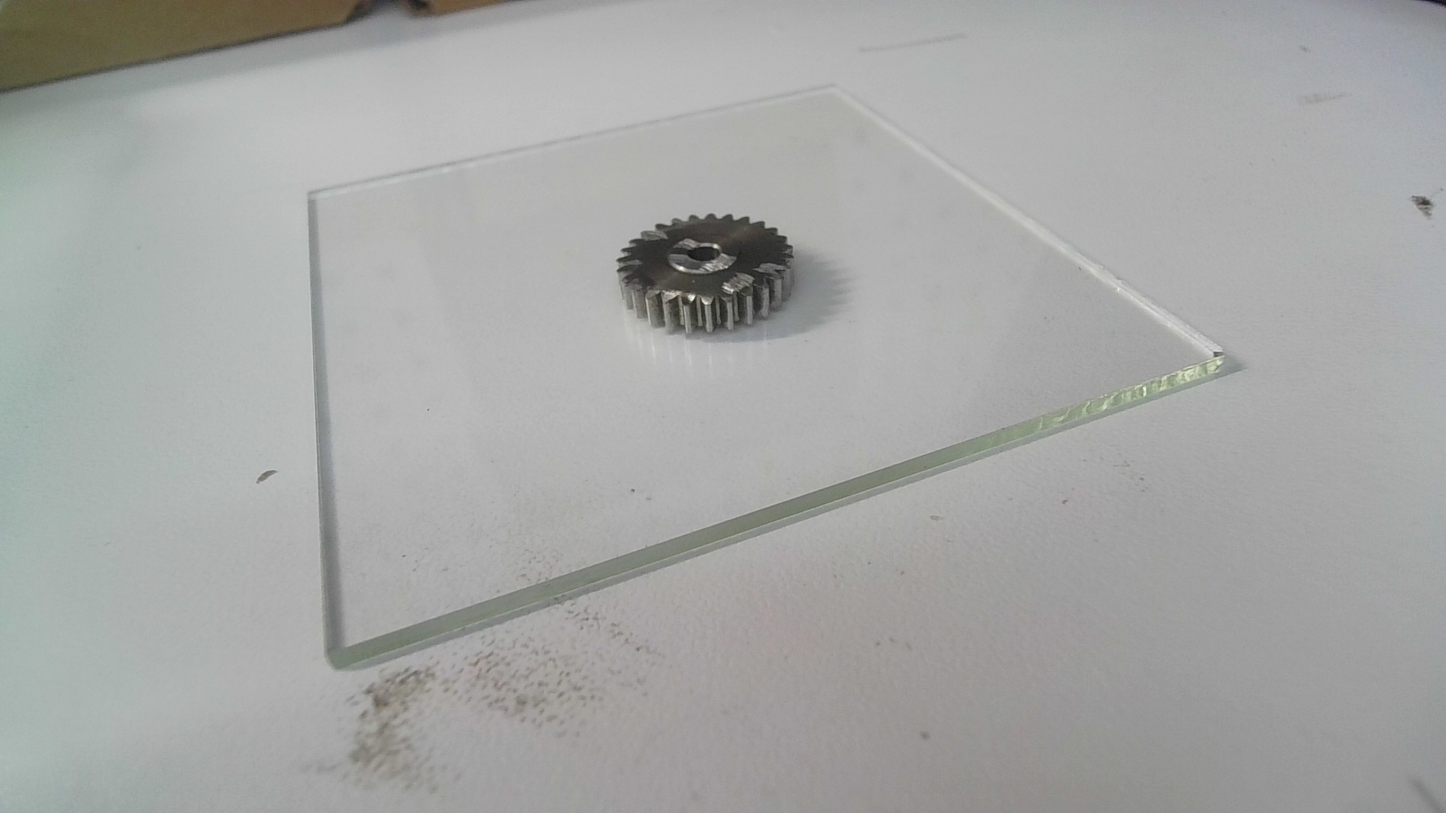gear: (612, 209, 804, 339)
